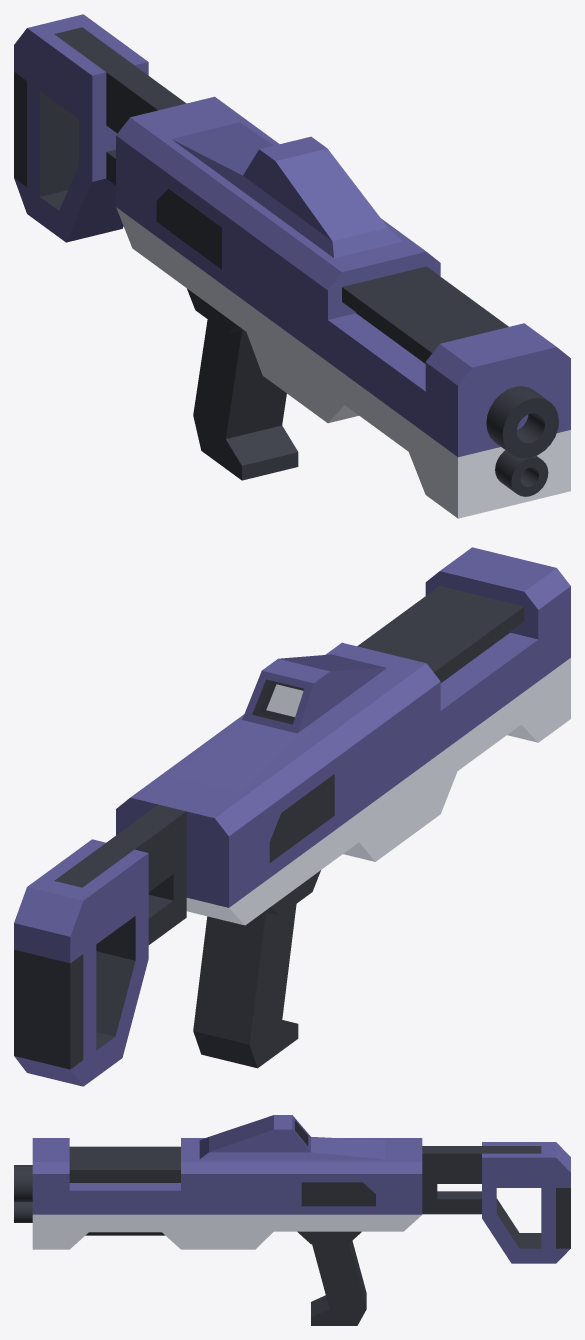
3 renders of one model, top to bottom at view 1: azimuth 30°, elevation 25°; view 2: azimuth 150°, elevation 25°; view 3: azimuth 270°, elevation 25°, orthographic. The views are drawn at different scales.
Visible parts, largest first — view 1: blaster_centerDetail, blaster_handle, stock_tactical, detailCounter, blaster_back, attachment_barrelThin; view 2: blaster_handle, blaster_centerDetail, stock_tactical, detailCounter, blaster_back; view 3: blaster_centerDetail, blaster_handle, stock_tactical, detailCounter, blaster_back, attachment_barrelThin.
Boxes of the visible parts, x1,y1,x2,y2 form: blaster_centerDetail: (295, 228, 570, 518); blaster_handle: (148, 120, 393, 480); stock_tactical: (14, 14, 186, 242); detailCounter: (171, 122, 402, 258); blaster_back: (116, 96, 246, 259); attachment_barrelThin: (486, 386, 558, 496); blaster_handle: (163, 685, 407, 1068); blaster_centerDetail: (325, 547, 570, 837); stock_tactical: (14, 804, 186, 1086); detailCounter: (171, 654, 401, 792); blaster_back: (116, 774, 261, 925); blaster_centerDetail: (32, 1138, 218, 1249); blaster_handle: (218, 1138, 385, 1325); stock_tactical: (422, 1142, 570, 1263); detailCounter: (199, 1115, 385, 1159); blaster_back: (385, 1138, 422, 1231); attachment_barrelThin: (14, 1165, 164, 1235).
Size of the model in its own units: 0.4 by 1.16 by 3.
